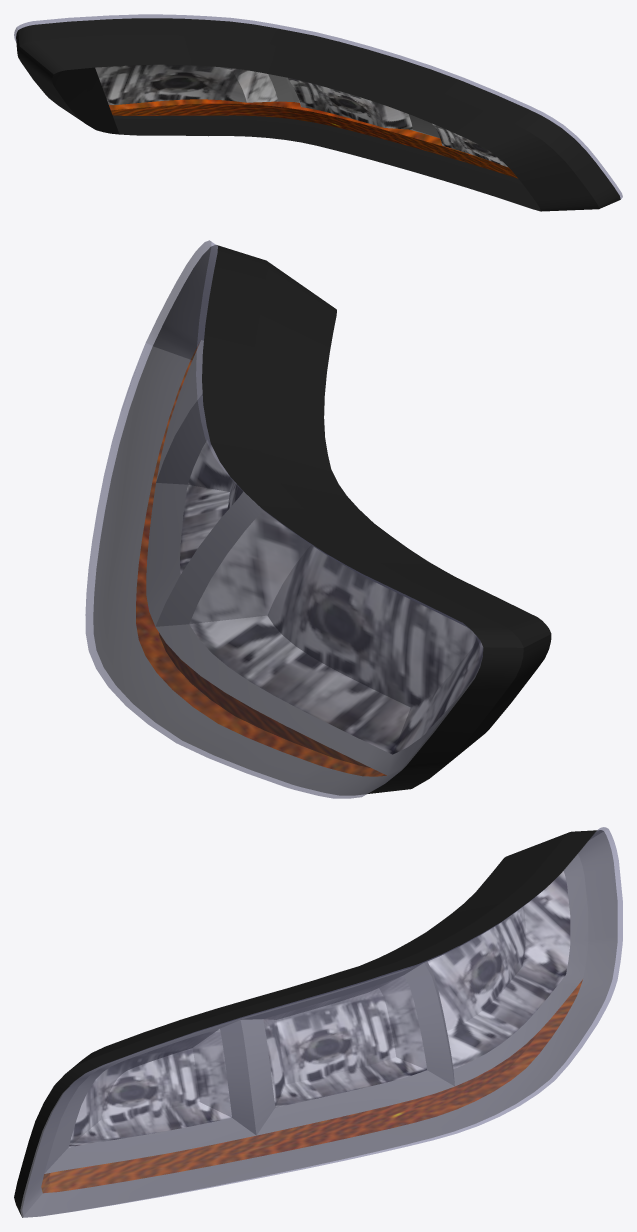
3 views of the same model, one above another, from view 1: azimuth 30°, elevation 25°; view 2: azimuth 150°, elevation 25°; view 3: azimuth 270°, elevation 25° (orthographic). The views are drawn at different scales.
Visible parts, largest first — view 1: H126_061B_L_H126_061B_L_6_D, H126_061B_L_H126_061B_L_3_N, H126_061B_L_H126_061B_L_4_N, H126_061B_L_H126_061B_L_7_DTaSI, H126_061B_L_1_N_H126_061B_L, H126_061B_L_H126_061B_L_5_DaS, H126_061B_L_H126_061B_L_2_N; view 2: H126_061B_L_H126_061B_L_7_DTaSI, H126_061B_L_H126_061B_L_6_D, H126_061B_L_H126_061B_L_5_DaS, H126_061B_L_H126_061B_L_3_N, H126_061B_L_H126_061B_L_4_N, H126_061B_L_1_N_H126_061B_L; view 3: H126_061B_L_H126_061B_L_7_DTaSI, H126_061B_L_H126_061B_L_5_DaS, H126_061B_L_H126_061B_L_6_D, H126_061B_L_H126_061B_L_3_N, H126_061B_L_1_N_H126_061B_L, H126_061B_L_H126_061B_L_4_N, H126_061B_L_H126_061B_L_2_N.
Boxes of the visible parts, x1=… form: H126_061B_L_H126_061B_L_6_D: x1=16, y1=18, x2=620, y2=211; H126_061B_L_H126_061B_L_3_N: x1=95, y1=64, x2=278, y2=104; H126_061B_L_H126_061B_L_4_N: x1=109, y1=99, x2=517, y2=178; H126_061B_L_H126_061B_L_7_DTaSI: x1=14, y1=14, x2=622, y2=198; H126_061B_L_1_N_H126_061B_L: x1=287, y1=77, x2=412, y2=129; H126_061B_L_H126_061B_L_5_DaS: x1=268, y1=74, x2=439, y2=138; H126_061B_L_H126_061B_L_2_N: x1=432, y1=123, x2=507, y2=166; H126_061B_L_H126_061B_L_7_DTaSI: x1=85, y1=240, x2=482, y2=798; H126_061B_L_H126_061B_L_6_D: x1=202, y1=245, x2=551, y2=793; H126_061B_L_H126_061B_L_5_DaS: x1=93, y1=245, x2=476, y2=795; H126_061B_L_H126_061B_L_3_N: x1=189, y1=510, x2=483, y2=754; H126_061B_L_H126_061B_L_4_N: x1=136, y1=343, x2=386, y2=776; H126_061B_L_1_N_H126_061B_L: x1=180, y1=437, x2=243, y2=573; H126_061B_L_H126_061B_L_7_DTaSI: x1=20, y1=827, x2=622, y2=1217; H126_061B_L_H126_061B_L_5_DaS: x1=20, y1=830, x2=617, y2=1217; H126_061B_L_H126_061B_L_6_D: x1=14, y1=830, x2=597, y2=1216; H126_061B_L_H126_061B_L_3_N: x1=427, y1=871, x2=570, y2=1068; H126_061B_L_1_N_H126_061B_L: x1=263, y1=975, x2=426, y2=1107; H126_061B_L_H126_061B_L_4_N: x1=41, y1=979, x2=582, y2=1193; H126_061B_L_H126_061B_L_2_N: x1=69, y1=1029, x2=231, y2=1147.
Bounding box in the file's own units: 50.77 × 13.95 × 50.69.
